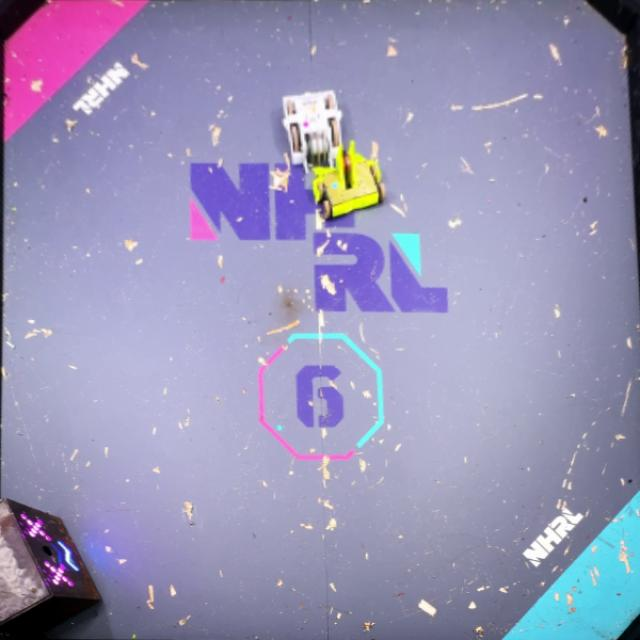housebot: (0, 497, 98, 640)
robot: (316, 142, 384, 218), (281, 90, 343, 164)
